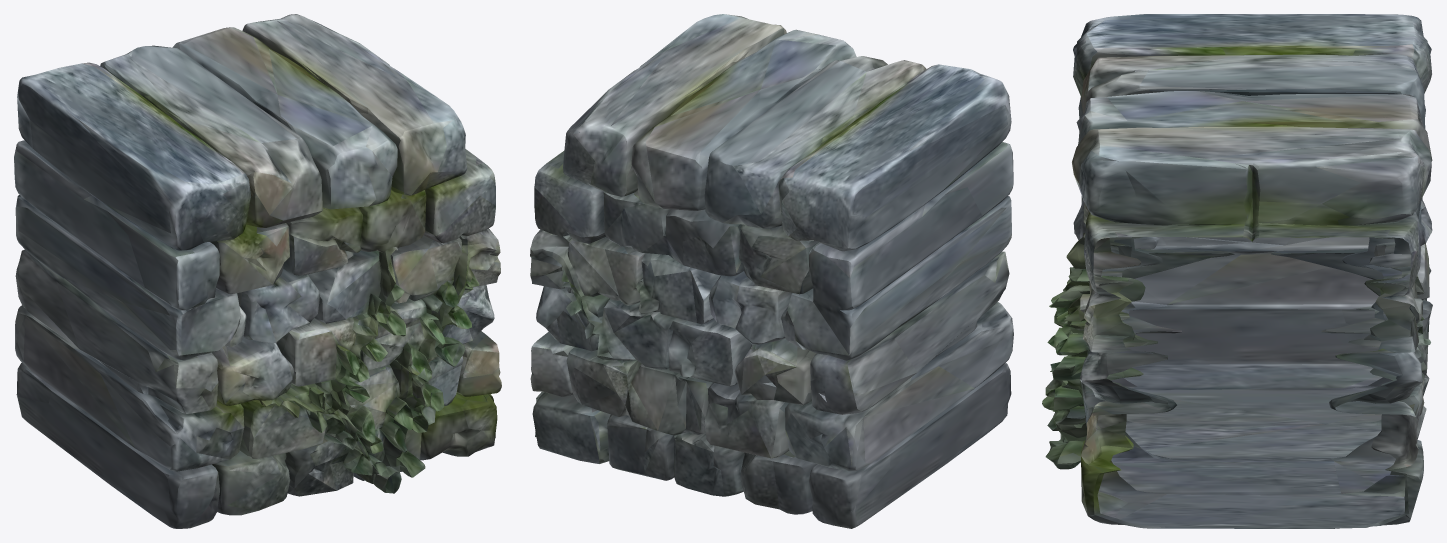
File: wall-half.glb
3 views of the same model, side by side, from view 1: azimuth 30°, elevation 25°; view 2: azimuth 150°, elevation 25°; view 3: azimuth 270°, elevation 25° (orthographic). The views are drawn at different scales.
Visible parts, largest first — view 1: Mesh_0; view 2: Mesh_0; view 3: Mesh_0.
Part boxes in pixels (x1=…): Mesh_0: x1=14, y1=14, x2=501, y2=528; Mesh_0: x1=530, y1=14, x2=1013, y2=528; Mesh_0: x1=1042, y1=14, x2=1432, y2=528.
Bounding box in the file's own units: 1 × 1 × 1.
Materials: 1 (1 with a texture image).
